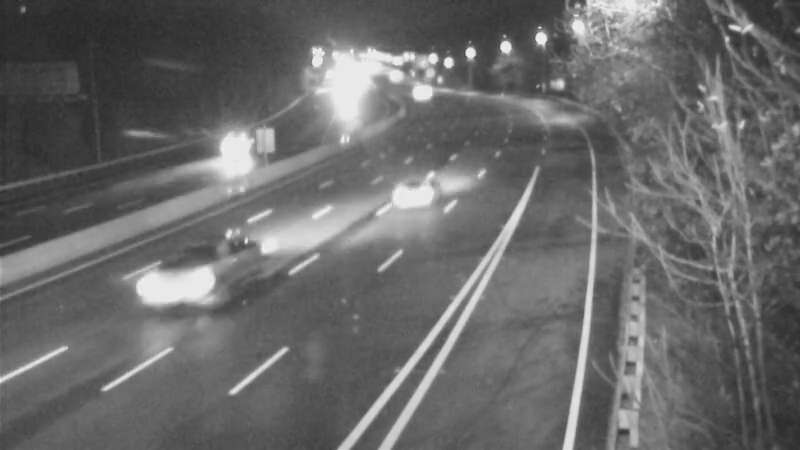vehicle: (376, 162, 456, 242), (148, 228, 228, 308), (179, 111, 259, 191), (392, 62, 442, 112)
